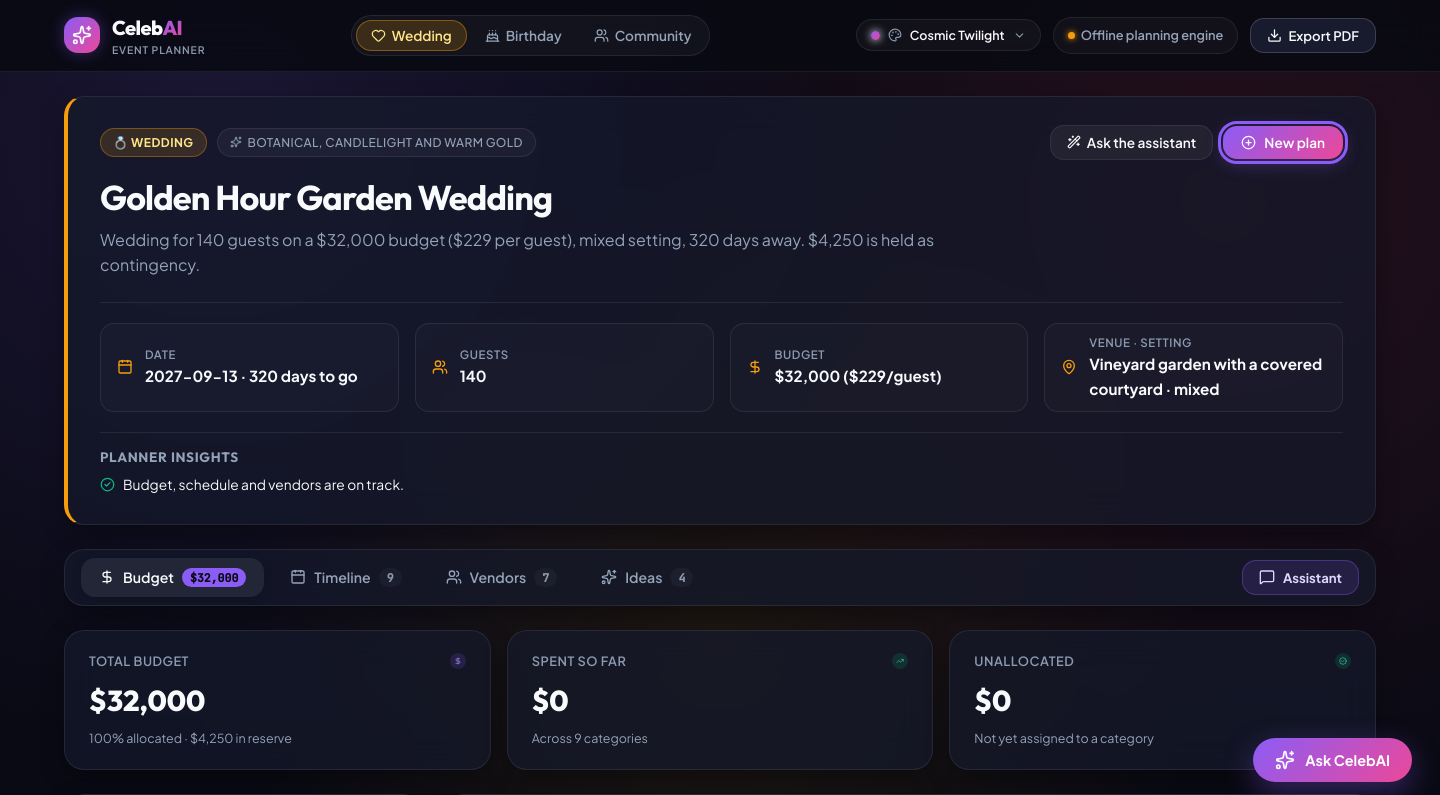
App › builds a new plan from the intake form when no server is available
Click the button "New plan": (1283, 142) [1223,126,1343,159]
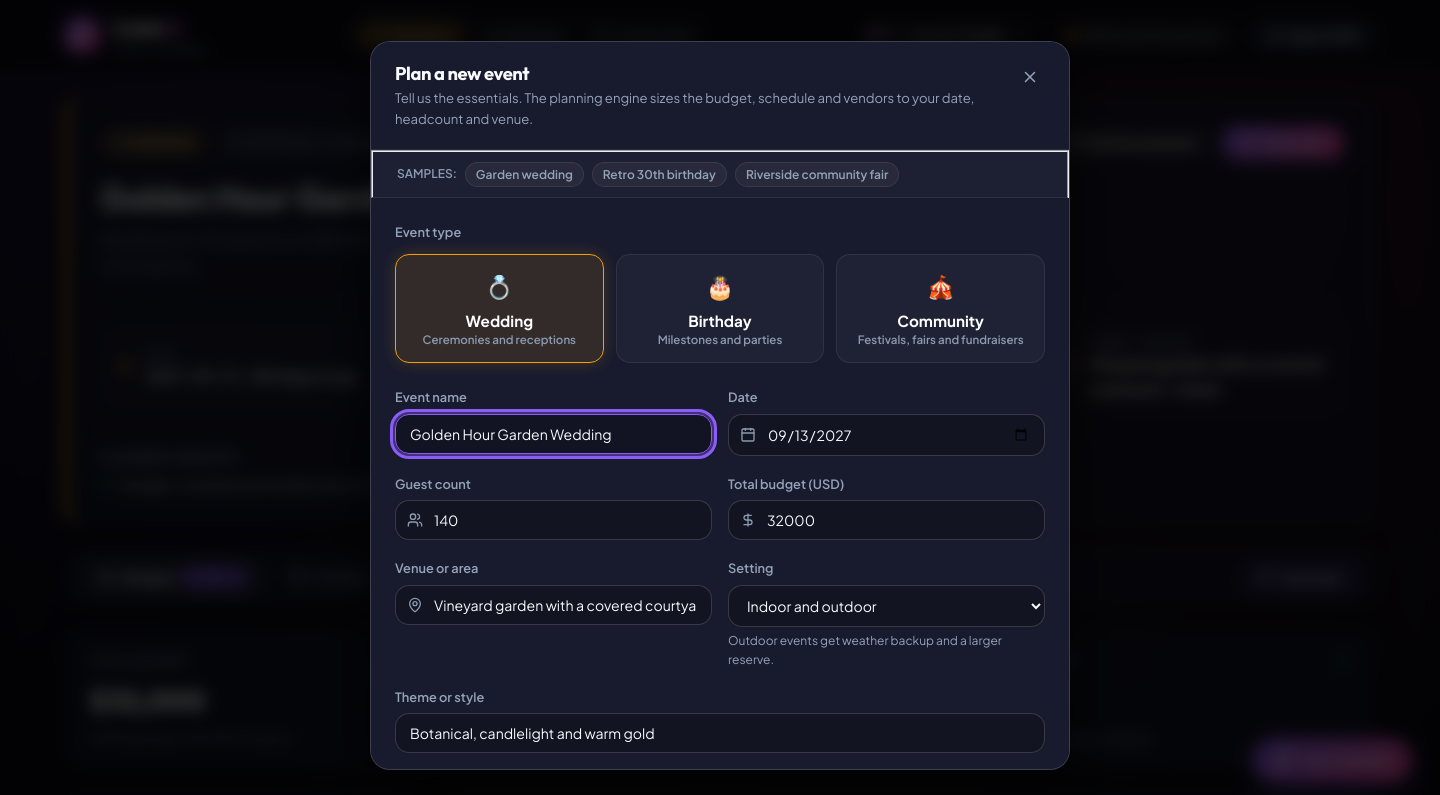
Click the radio button labelled "🎪 Community Festivals, fairs and fundraisers": (941, 309) [836,254,1045,363]
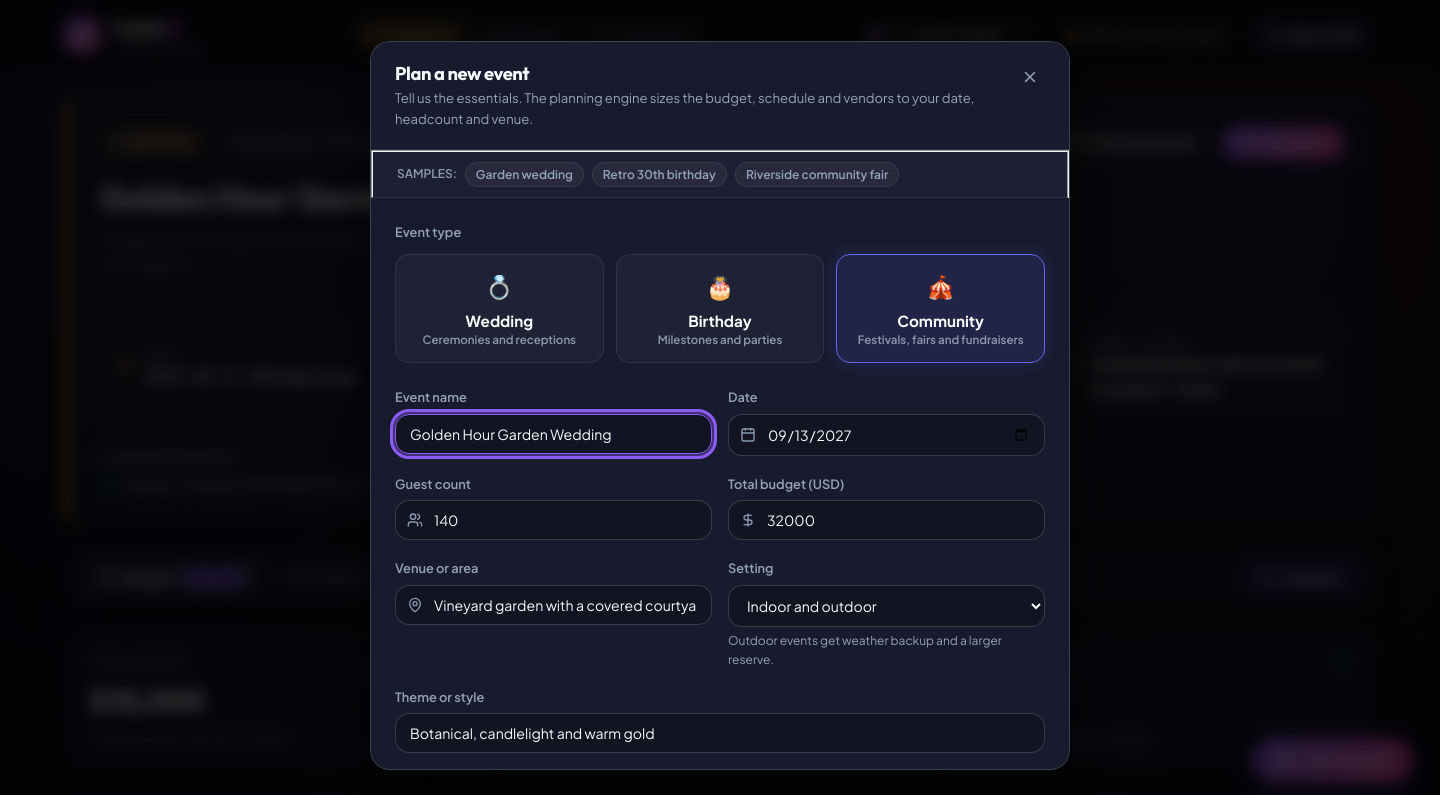
Replace the text in the field labelled "Event name" with "Block Party": (554, 434) [395,414,712,454]
Replace the text in the number field labelled "Guest count" with "220": (554, 520) [395,500,712,540]
Replace the text in the number field labelled "Total budget (USD)" with "9000": (886, 520) [728,500,1045,540]
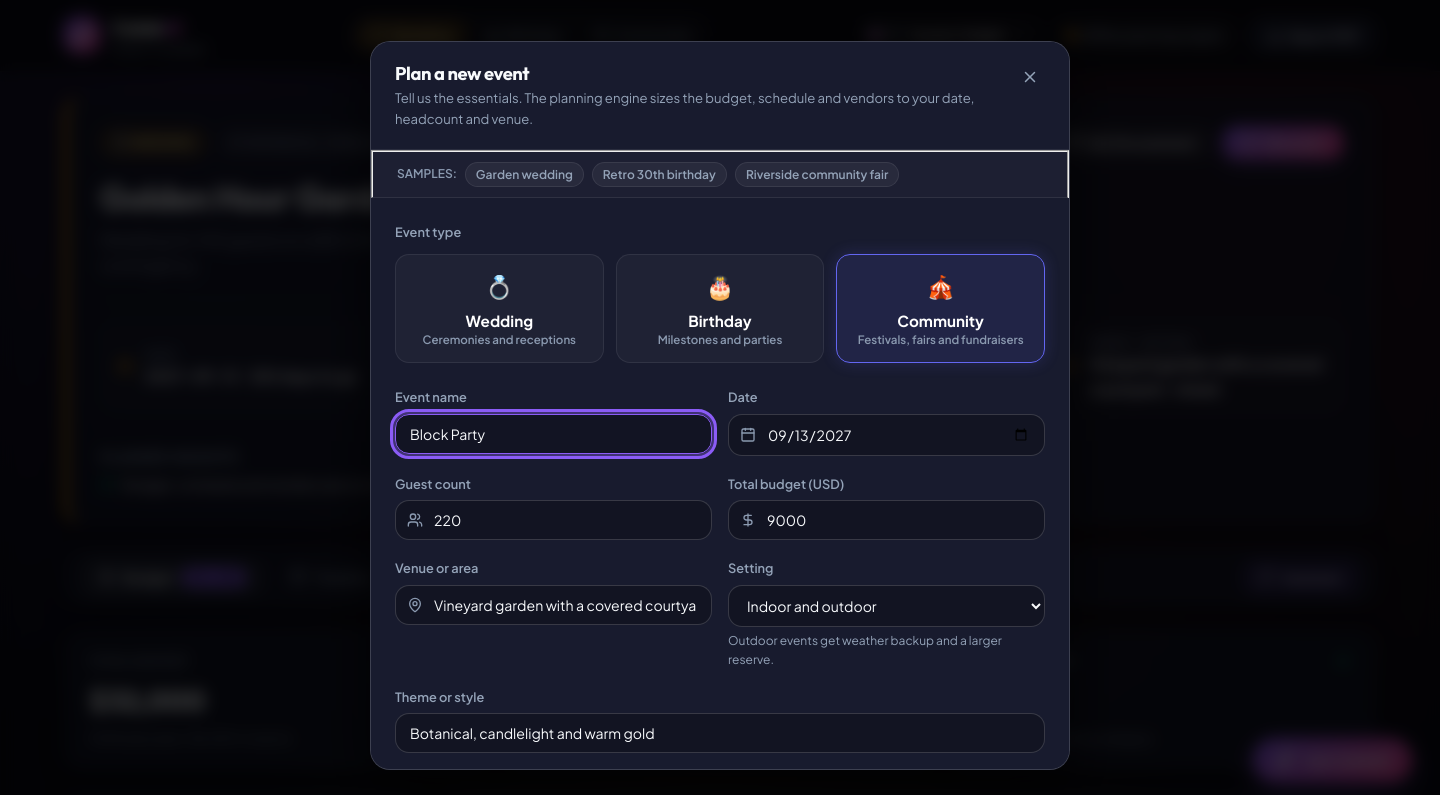
Replace the text in the field labelled "Venue or area" with "Main street": (554, 604) [395,584,712,624]
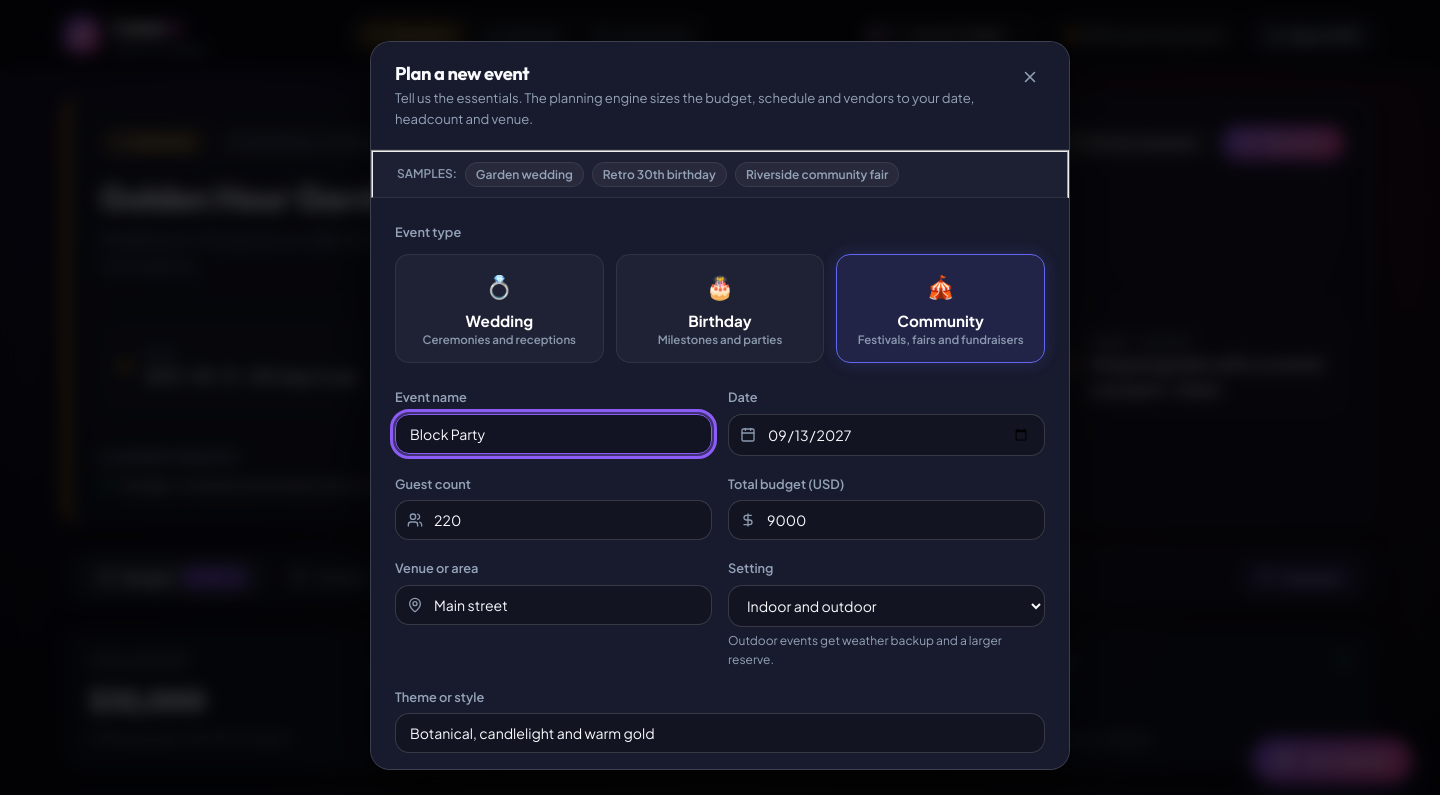
Select "Outdoor" in the dropdown labelled "Setting": (886, 606) [728,584,1045,626]
(page scrolled)
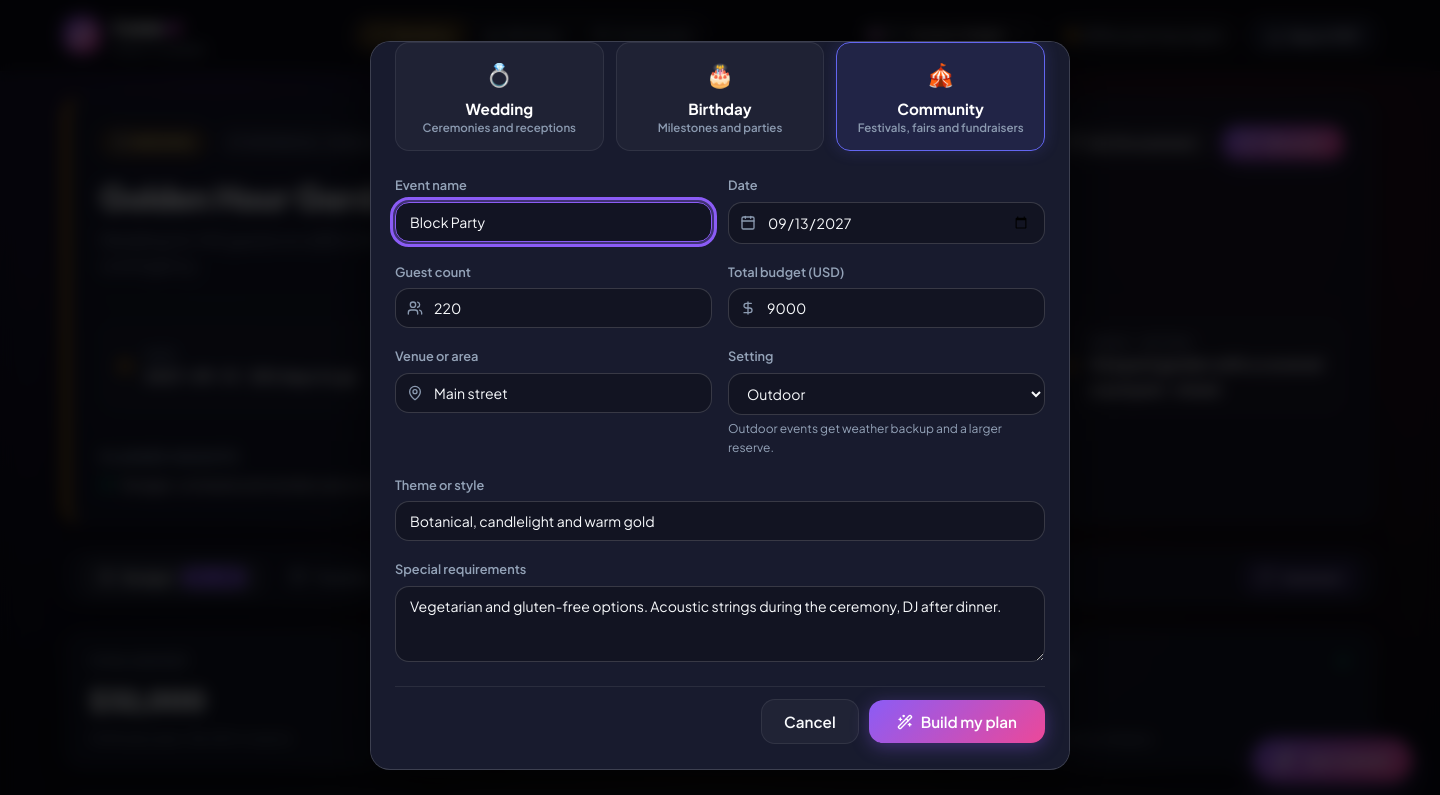
Click the button "Build my plan": (957, 722) [869,700,1045,743]
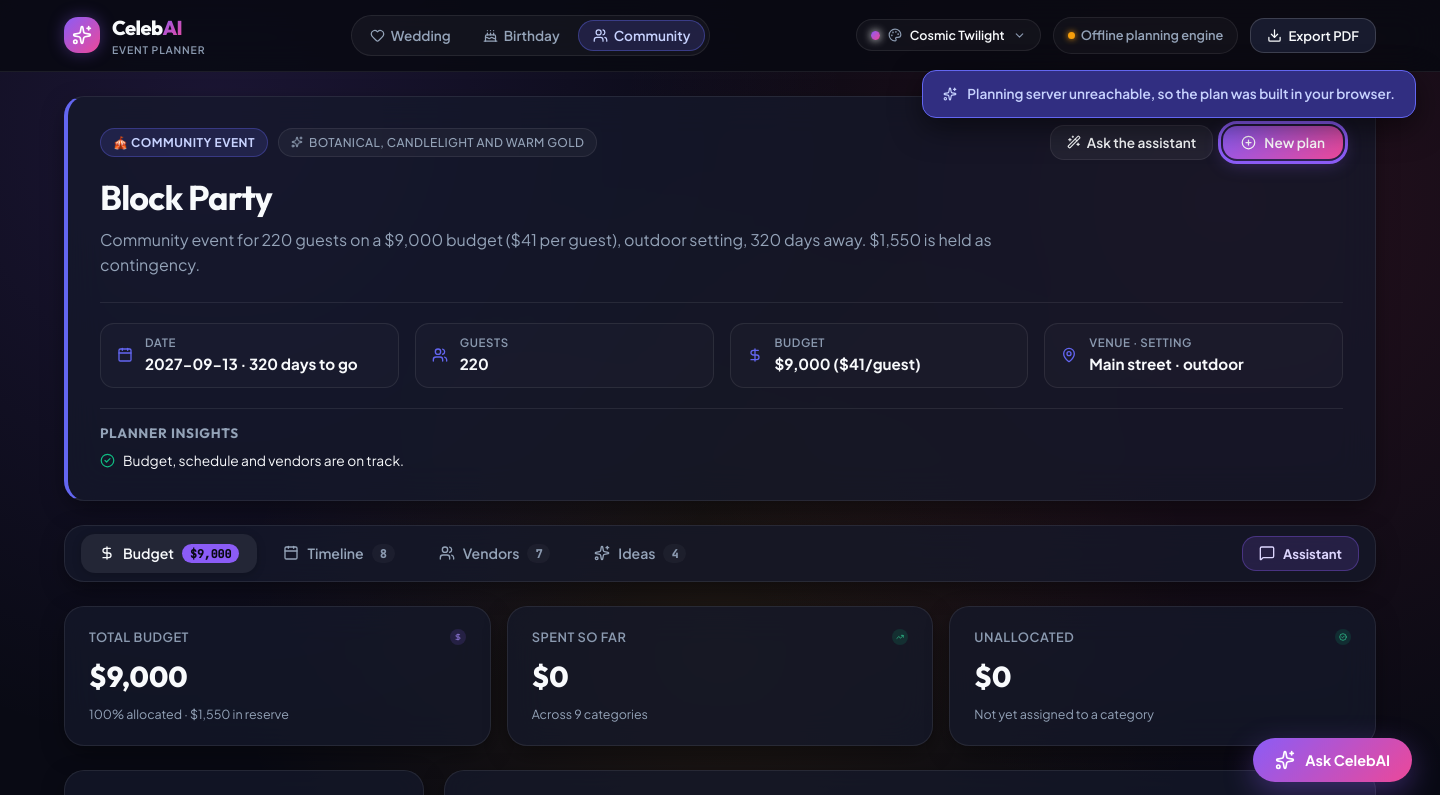
Expected: the heading "Block Party" is shown, [100,176,272,219]
Expected: the dialog is gone
Expected: the text "Community event for 220 guests" is shown, [100,229,992,275]
